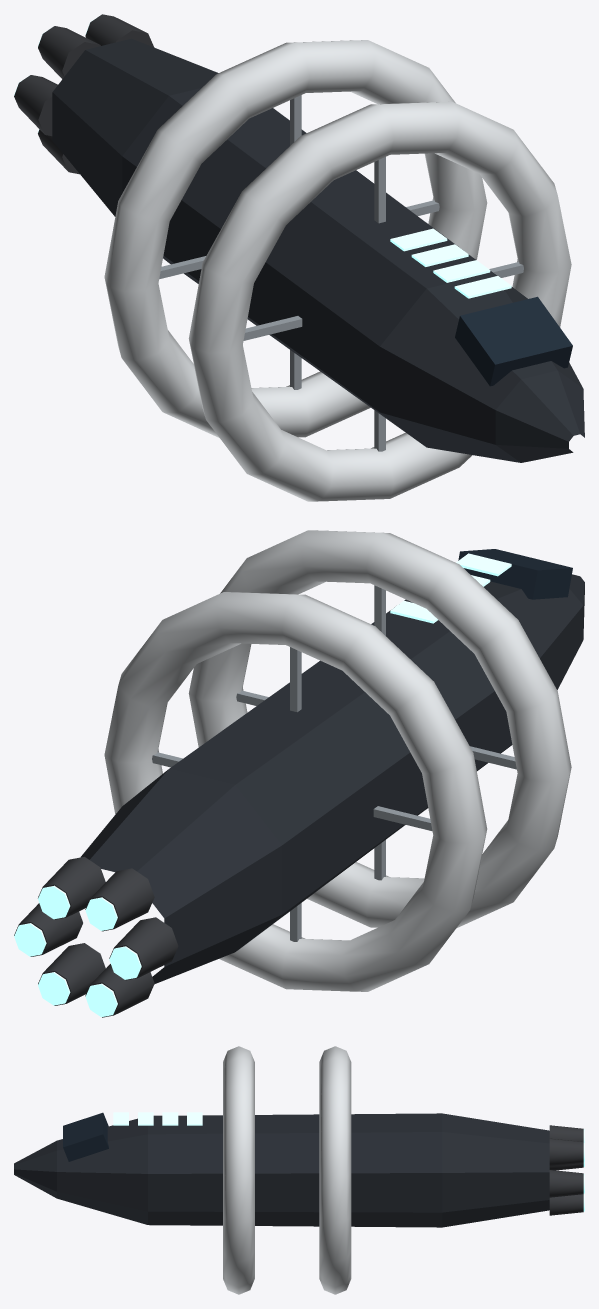
File: space_ship_colony_transport_mk4.glb
3 renders of one model, top to bottom at view 1: azimuth 30°, elevation 25°; view 2: azimuth 150°, elevation 25°; view 3: azimuth 270°, elevation 25°, orthographic. The views are drawn at different scales.
Visible parts, largest first — view 1: body, habitat_ring_1, habitat_ring_0, engine_2, engine_3, engine_1; view 2: body, habitat_ring_0, habitat_ring_1, engine_3, engine_2, engine_1, engine_5, engine_0, engine_4; view 3: body, habitat_ring_0, habitat_ring_1, engine_0, engine_1, engine_5, engine_2.
Boxes of the visible parts, left/top/right/bottom form: body: left=52, top=38, right=584, bottom=462; habitat_ring_1: left=188, top=101, right=571, bottom=501; habitat_ring_0: left=104, top=40, right=487, bottom=437; engine_2: left=38, top=26, right=100, bottom=79; engine_3: left=14, top=75, right=57, bottom=136; engine_1: left=85, top=14, right=154, bottom=47; body: left=81, top=549, right=584, bottom=984; habitat_ring_0: left=104, top=592, right=487, bottom=991; habitat_ring_1: left=188, top=530, right=571, bottom=928; engine_3: left=109, top=917, right=178, bottom=980; engine_2: left=85, top=868, right=154, bottom=931; engine_1: left=38, top=856, right=105, bottom=919; engine_5: left=38, top=943, right=105, bottom=1005; engine_0: left=14, top=903, right=82, bottom=956; engine_4: left=85, top=964, right=154, bottom=1017; body: left=14, top=1112, right=549, bottom=1227; habitat_ring_0: left=319, top=1046, right=351, bottom=1294; habitat_ring_1: left=223, top=1046, right=254, bottom=1294; engine_0: left=549, top=1170, right=584, bottom=1197; engine_1: left=549, top=1138, right=584, bottom=1166; engine_5: left=549, top=1193, right=584, bottom=1215; engine_2: left=549, top=1125, right=584, bottom=1142.
Size of what is drawn, in the model's own units: 25.29 by 25.29 by 58.
